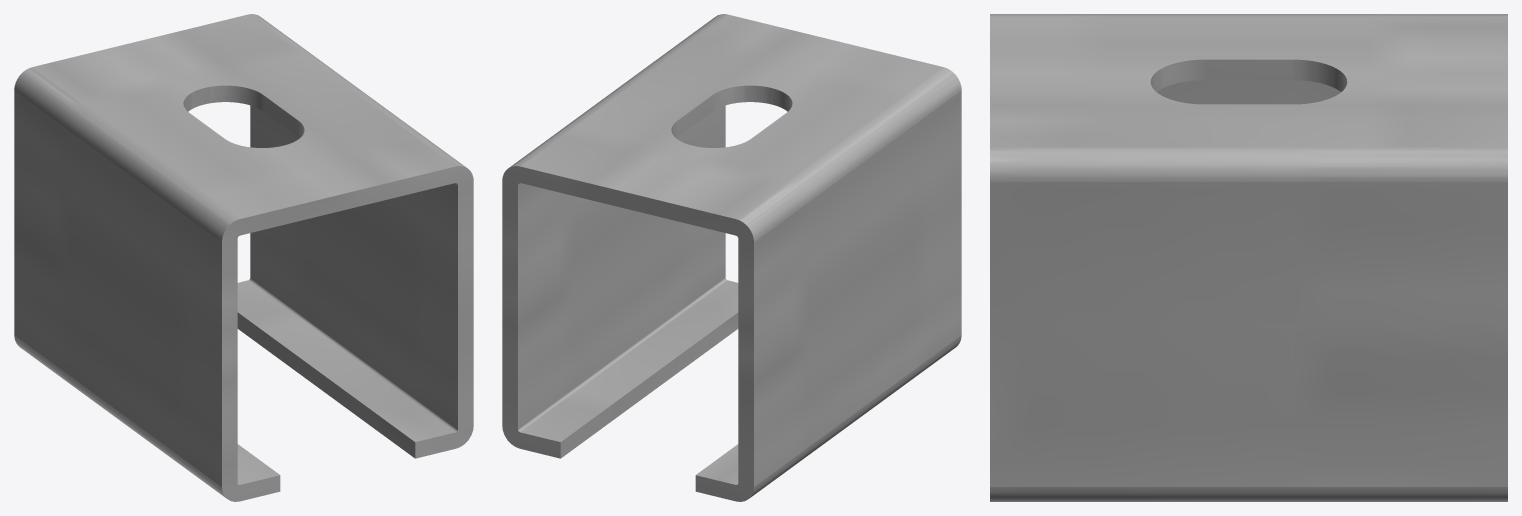
3 views of the same model, side by side, from view 1: azimuth 30°, elevation 25°; view 2: azimuth 150°, elevation 25°; view 3: azimuth 270°, elevation 25° (orthographic). The views are drawn at different scales.
Visible parts, largest first — view 1: 28_30 O; view 2: 28_30 O; view 3: 28_30 O.
Boxes of the visible parts, box(x1,y1,x2,y2) form: 28_30 O: box(14, 14, 473, 501); 28_30 O: box(502, 14, 961, 501); 28_30 O: box(990, 14, 1507, 501).
Size of the model in its own units: 28 by 30 by 40.
Materials: 1 (1 with a texture image).
